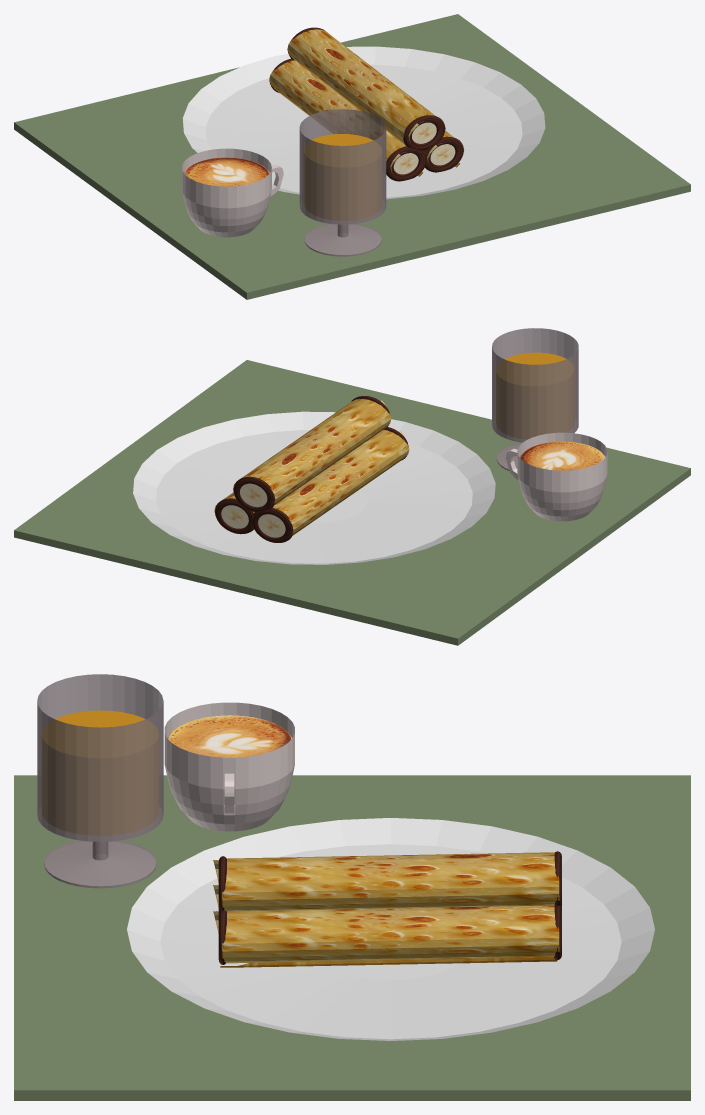
File: Menu3Francia.glb
3 views of the same model, one above another, from view 1: azimuth 30°, elevation 25°; view 2: azimuth 150°, elevation 25°; view 3: azimuth 270°, elevation 25° (orthographic). The views are drawn at different scales.
Parts seen in each view (by area): view 1: Cube, Cylinder, Cylinder.010, Cylinder.011, Cylinder.007, Circle, Cylinder.006, Cylinder.012, Torus.005, Torus.002, Torus.001; view 2: Cube, Cylinder, Cylinder.010, Cylinder.011, Cylinder.007, Circle, Cylinder.006, Cylinder.012, Torus.004, Torus.003, Torus, Cylinder.005 (+2 smaller); view 3: Cube, Cylinder, Cylinder.010, Cylinder.001, Cylinder.007, Cylinder.011, Circle, Cylinder.012.
Boxes of the visible parts, bbox=[...] form: Cube: bbox=[14, 14, 690, 299]; Cylinder: bbox=[182, 46, 545, 199]; Cylinder.010: bbox=[299, 109, 386, 256]; Cylinder.011: bbox=[304, 134, 381, 220]; Cylinder.007: bbox=[287, 29, 445, 150]; Circle: bbox=[181, 148, 283, 237]; Cylinder.006: bbox=[269, 60, 423, 176]; Cylinder.012: bbox=[184, 157, 269, 186]; Torus.005: bbox=[403, 115, 445, 150]; Torus.002: bbox=[386, 146, 425, 181]; Torus.001: bbox=[424, 136, 463, 172]; Cube: bbox=[14, 360, 690, 645]; Cylinder: bbox=[133, 411, 495, 564]; Cylinder.010: bbox=[492, 328, 578, 470]; Cylinder.011: bbox=[496, 352, 573, 438]; Cylinder.007: bbox=[233, 399, 390, 504]; Circle: bbox=[506, 432, 607, 521]; Cylinder.006: bbox=[257, 430, 409, 535]; Cylinder.012: bbox=[519, 441, 605, 470]; Torus.004: bbox=[233, 476, 275, 512]; Torus.003: bbox=[253, 508, 293, 542]; Torus: bbox=[215, 498, 253, 534]; Cylinder.005: bbox=[258, 514, 285, 537]; Cube: bbox=[14, 775, 690, 1100]; Cylinder: bbox=[127, 818, 654, 1040]; Cylinder.010: bbox=[37, 674, 163, 888]; Cylinder.001: bbox=[213, 905, 559, 967]; Cylinder.007: bbox=[213, 852, 559, 911]; Cylinder.011: bbox=[42, 710, 158, 835]; Circle: bbox=[164, 702, 294, 831]; Cylinder.012: bbox=[167, 715, 292, 757].
Size of the model in its own units: 22.67 by 5.85 by 20.59.
Materials: 22 (17 with a texture image).
